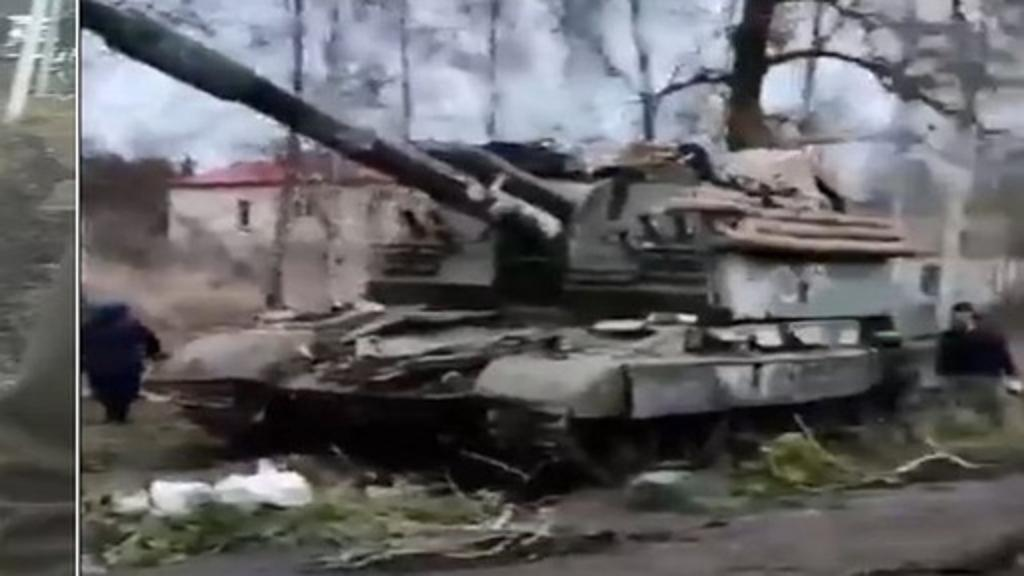ART: (80, 0, 912, 492)
